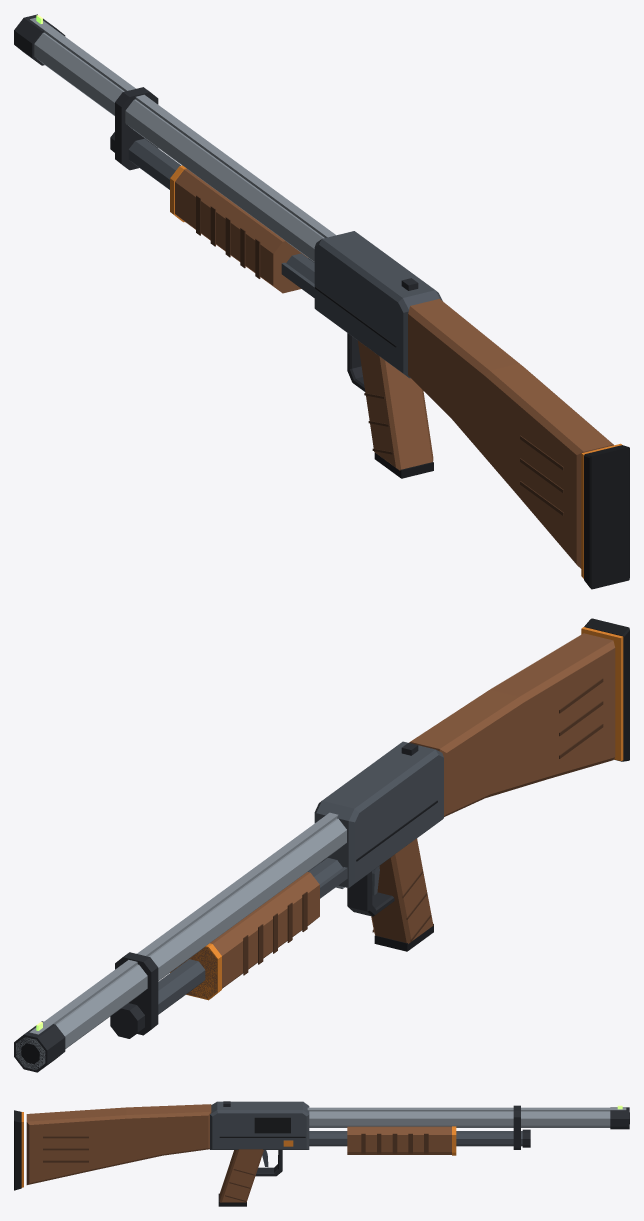
File: shotgun_pump.glb
3 renders of one model, top to bottom at view 1: azimuth 30°, elevation 25°; view 2: azimuth 150°, elevation 25°; view 3: azimuth 270°, elevation 25°, orthographic. The views are drawn at different scales.
Visible parts, largest first — view 1: Body, Pump; view 2: Body, Pump; view 3: Body, Pump.
Boxes of the visible parts, <box> form: Body: <box>14,14,629,589</box>; Pump: <box>170,165,314,297</box>; Body: <box>14,618,629,1072</box>; Pump: <box>170,862,347,1000</box>; Body: <box>14,1101,629,1206</box>; Pump: <box>309,1126,456,1155</box>.
Bounding box in the file's own units: 0.0488 × 0.1815 × 1.02.
